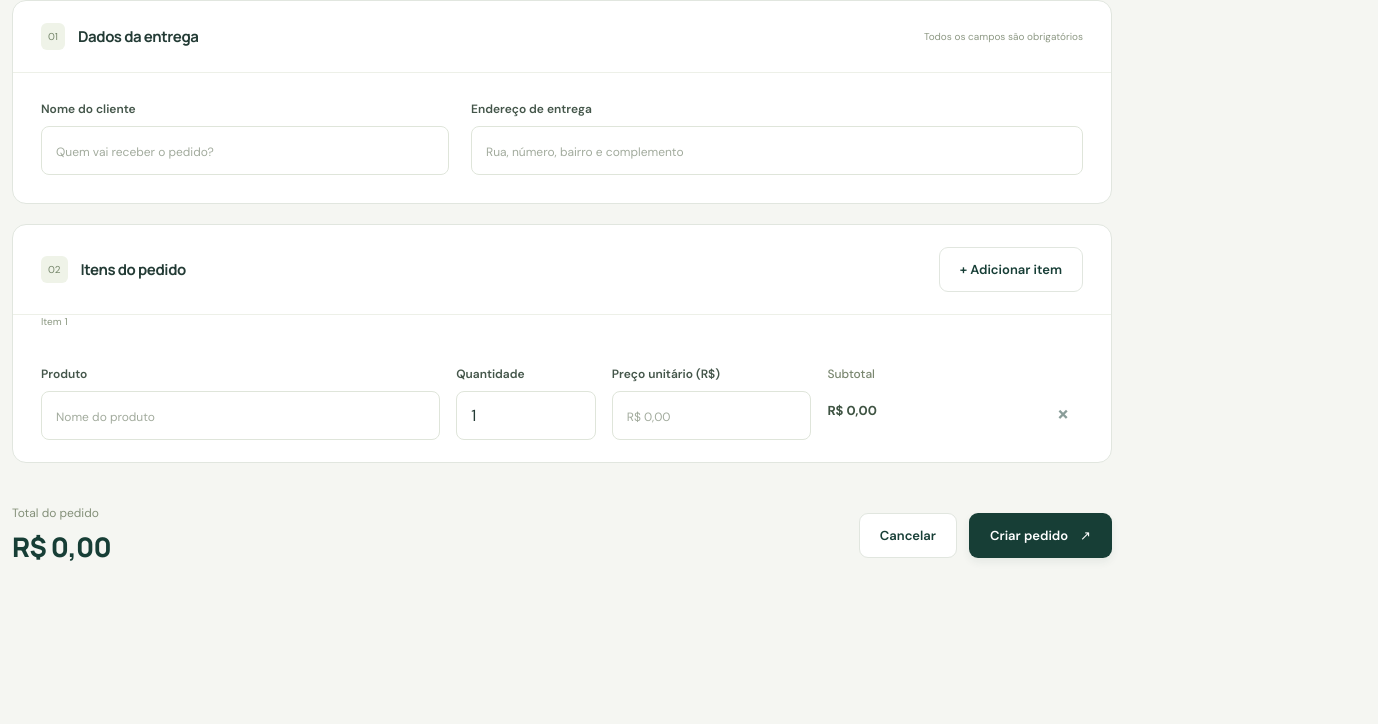
it: Create order › preserves fields and associates indexed backend errors
Type "Cliente" into the field labelled "Nome do cliente" at (245, 150), box top-left (41, 126), bottom-right (449, 175)
Type "Rua das Flores, 10" into the field labelled "Endereço de entrega" at (777, 150), box top-left (471, 126), bottom-right (1083, 175)
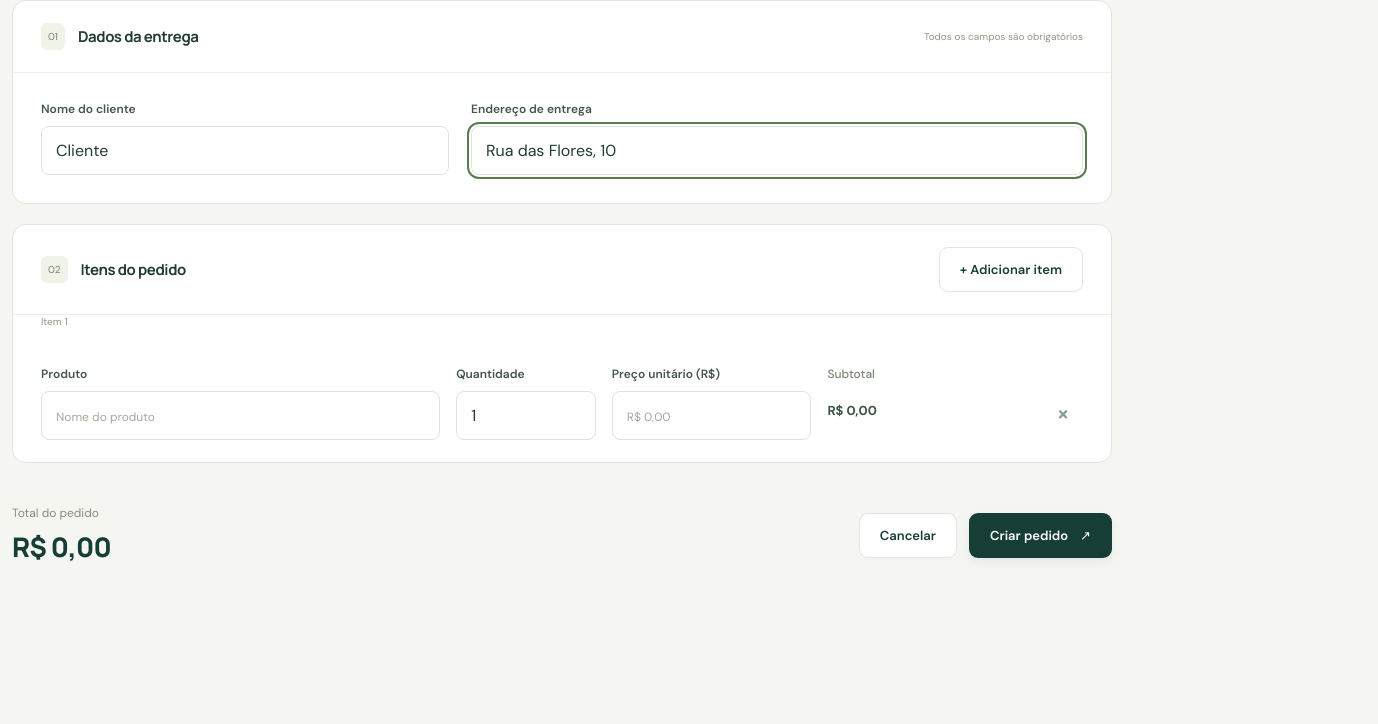
Type "Produto" into the field labelled "Produto" at (241, 416), box top-left (41, 391), bottom-right (440, 440)
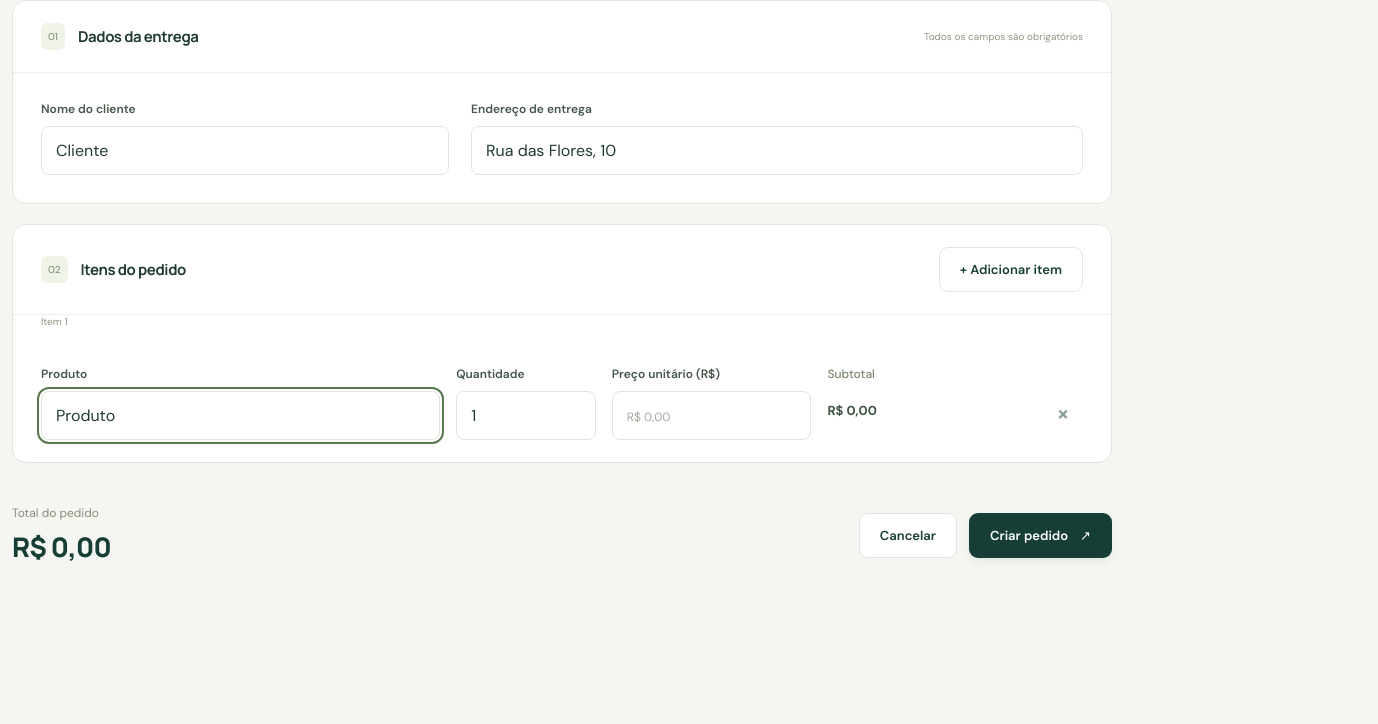
Replace the text in the number field labelled "Quantidade" with "2" at (526, 416), box top-left (456, 391), bottom-right (596, 440)
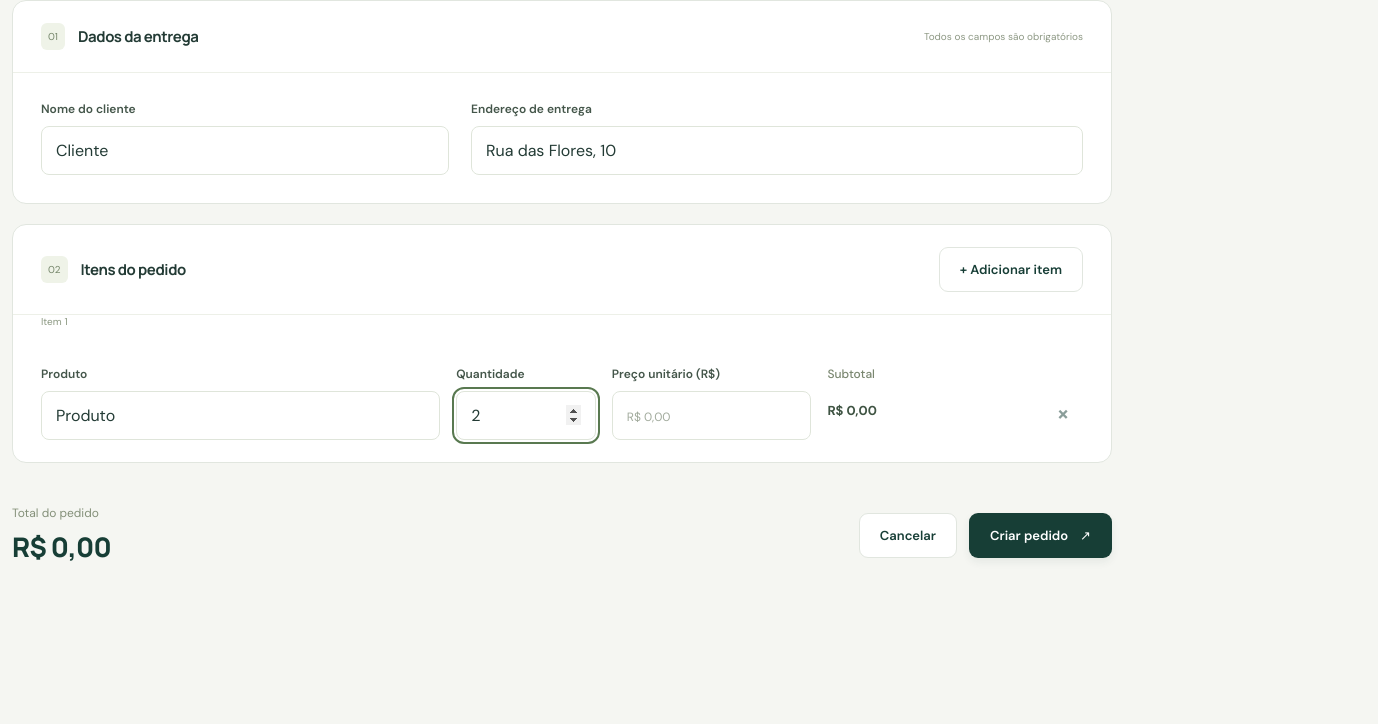
Type "12,50" into the field labelled "Preço unitário (R$)" at (712, 416), box top-left (612, 391), bottom-right (811, 440)
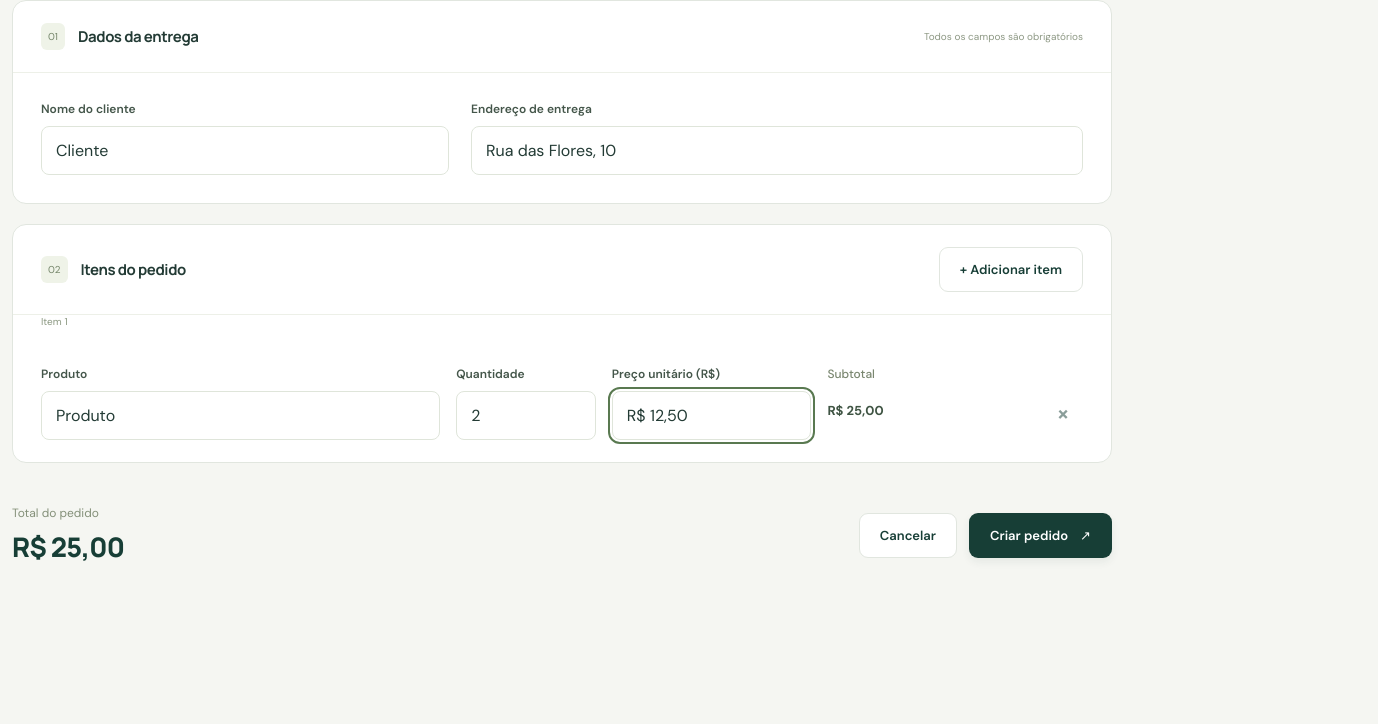
Click the button "Criar pedido ↗" at (1040, 535), box top-left (969, 512), bottom-right (1112, 558)
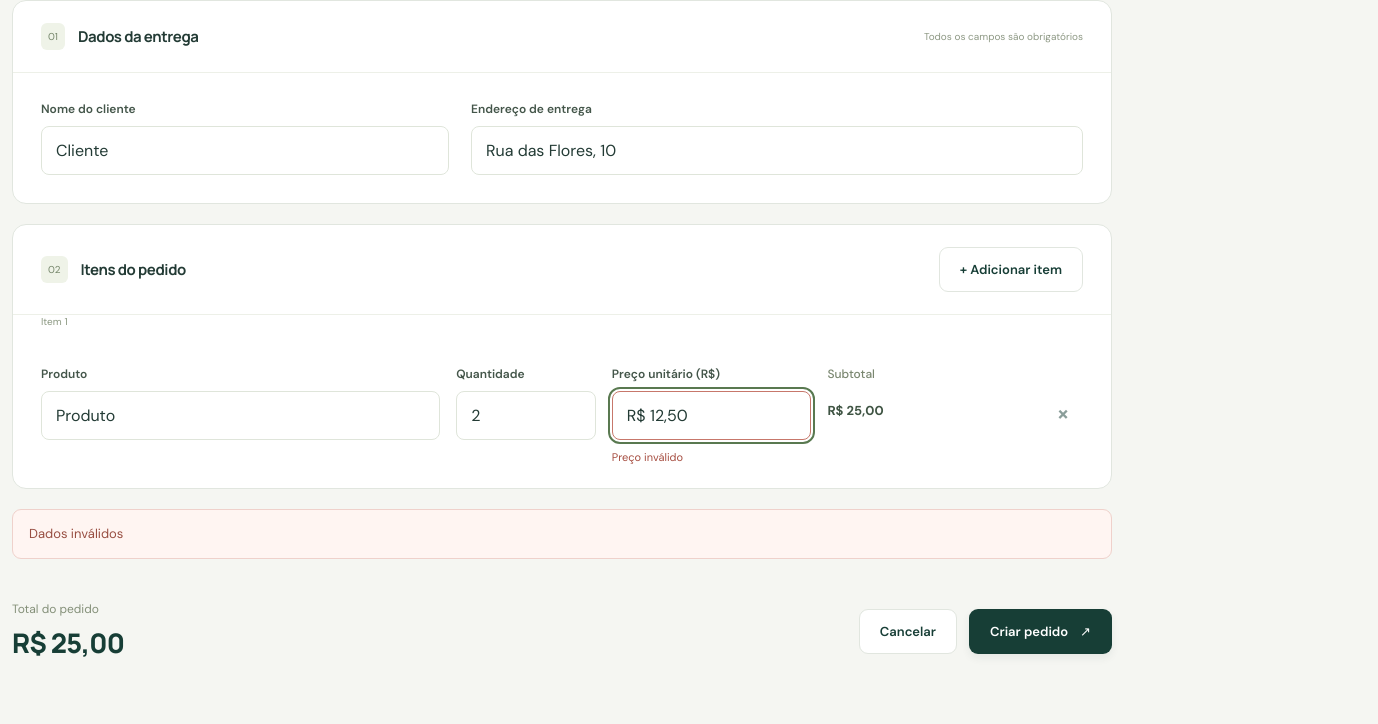
Expected: the text "Preço inválido" is shown, top-left (612, 450), bottom-right (683, 464)
Click the button "+ Adicionar item" at (1011, 270), box top-left (939, 247), bottom-right (1083, 292)
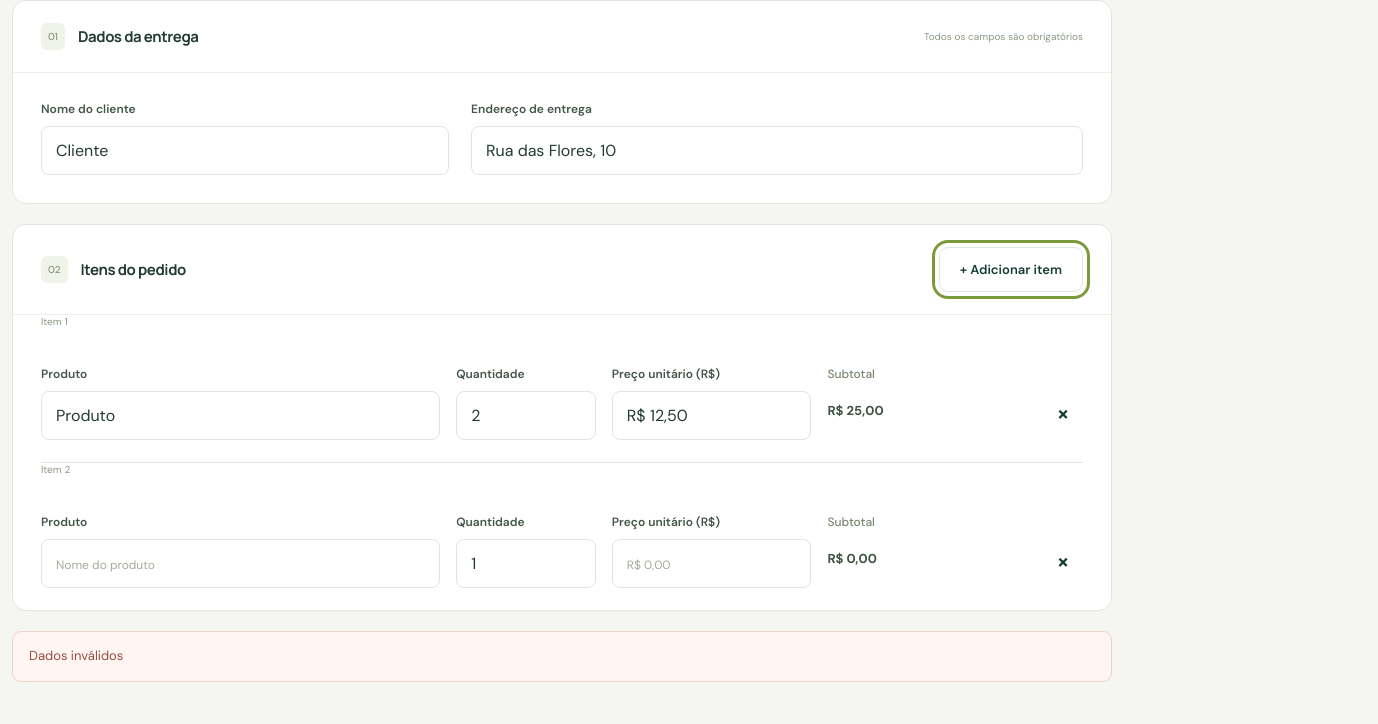
Expected: the text "Preço inválido" is gone
